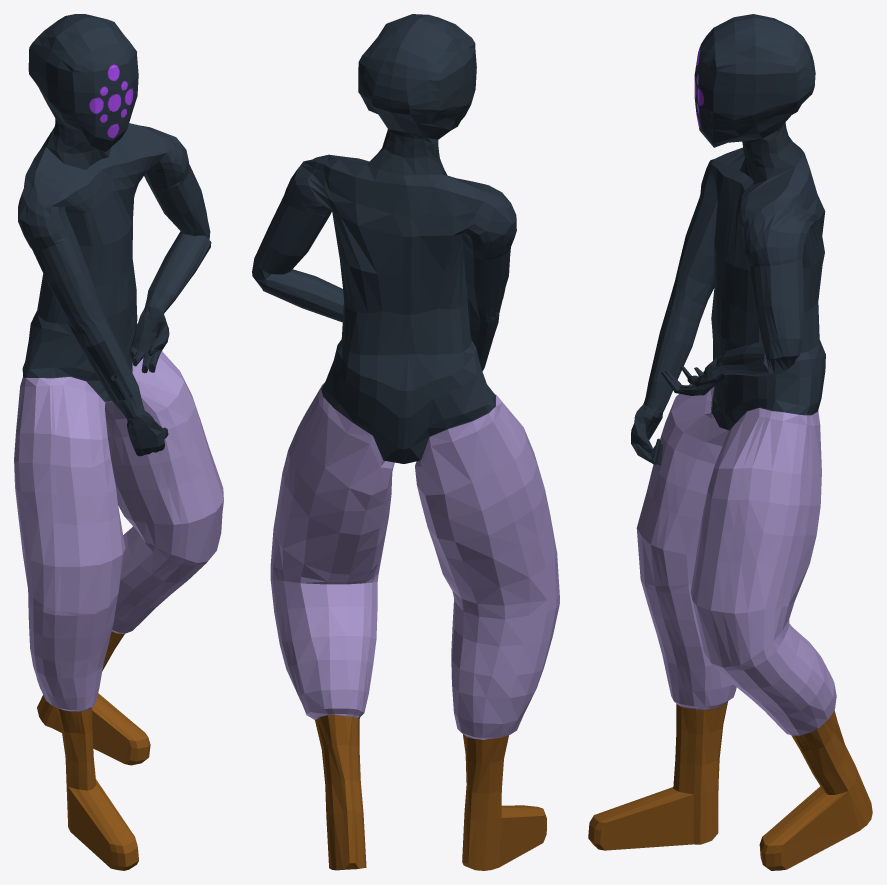
File: Oracle_WF_000023.obj
The picture shows the model from 3 angles, left to right: view 1: azimuth 30°, elevation 25°; view 2: azimuth 150°, elevation 25°; view 3: azimuth 270°, elevation 25°; orthographic projection. The views are drawn at different scales.
Parts seen in each view (by area): view 1: Cube; view 2: Cube; view 3: Cube.
Boxes of the visible parts, box(x1,y1,x2,y2) form: Cube: box(14, 14, 223, 870); Cube: box(252, 14, 559, 870); Cube: box(588, 14, 872, 870).
Bounding box in the file's own units: 1.16 × 3.91 × 1.19.
